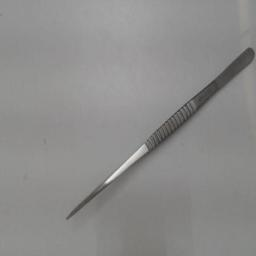DeBakey Dissector: (44, 34, 254, 242)
